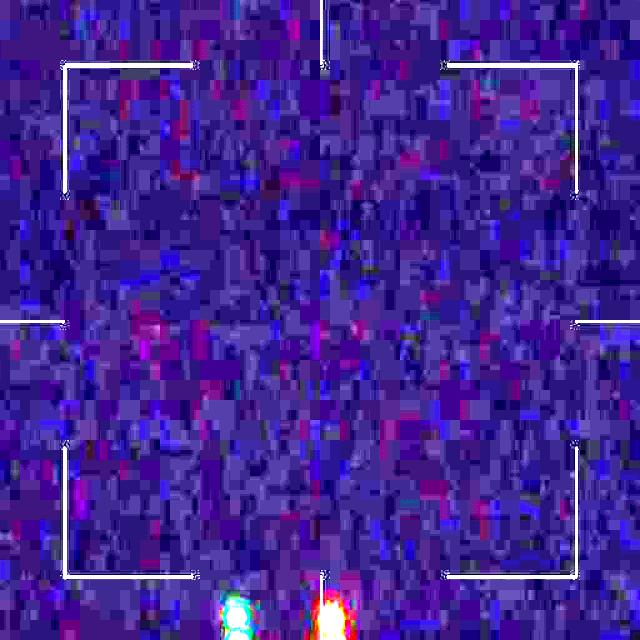bird: (225, 601, 349, 640)
